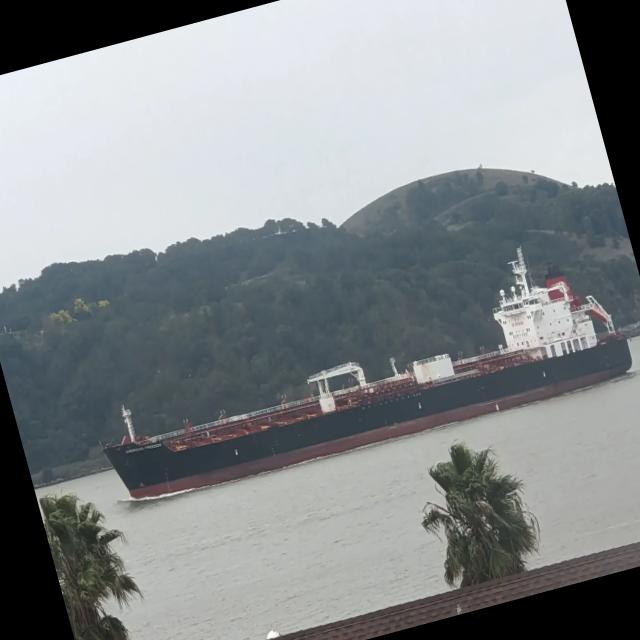Tanker: (100, 247, 631, 500)
